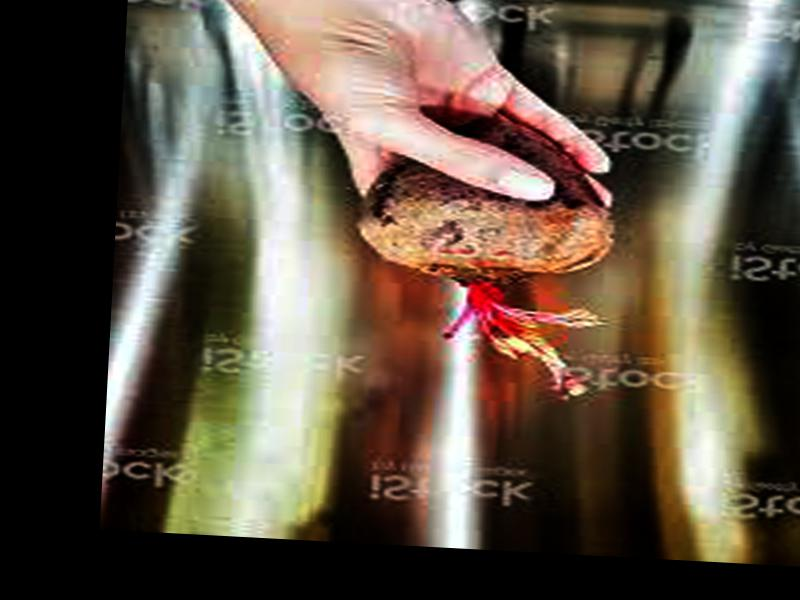Beet: (353, 110, 620, 394)
